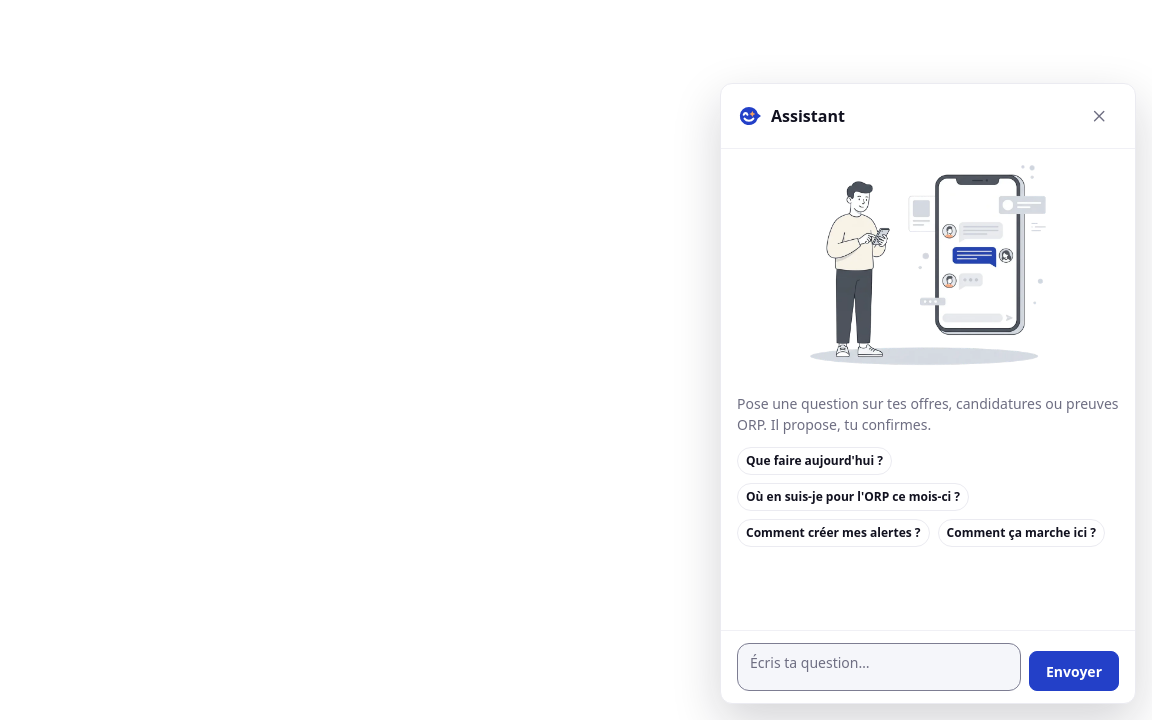
Scenario: AssistantPanel, propositions (docs/52) › affiche la proposition, la fait sur « Confirmer », puis propose « Annuler »
Type "Trie mes offres" into the text box with test id "assistant-input" at (879, 667), box [737, 643, 1021, 691]
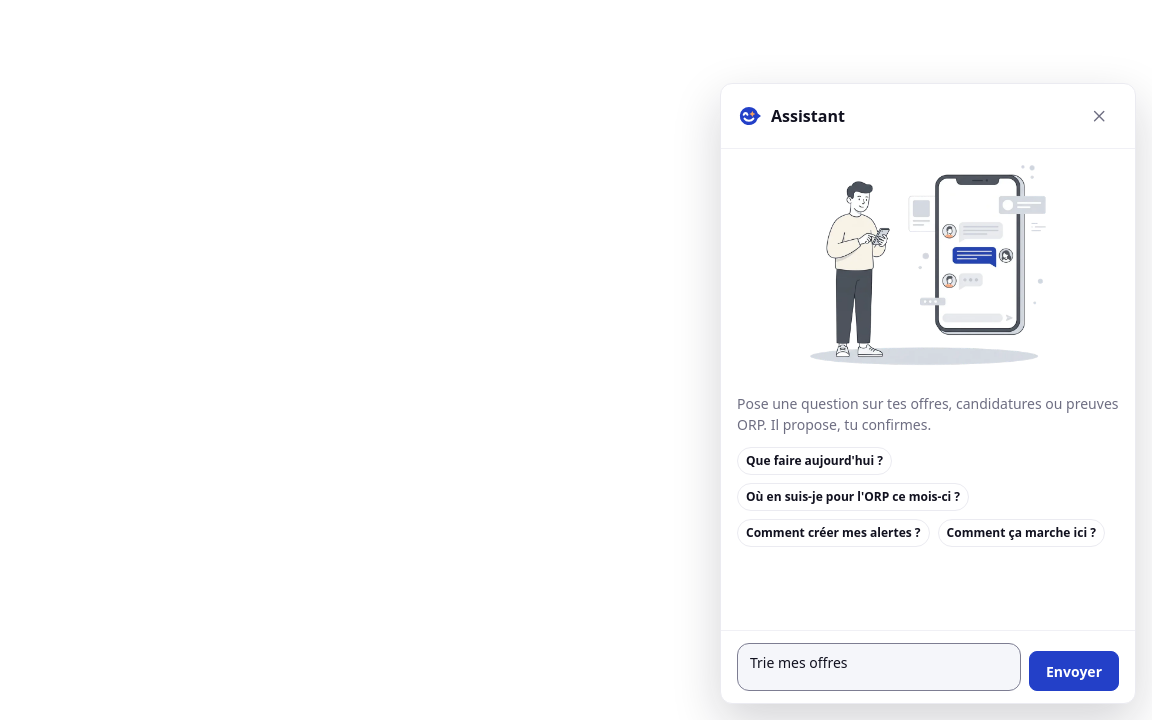
Submit the form with class "assistant-form", box [721, 630, 1135, 703]
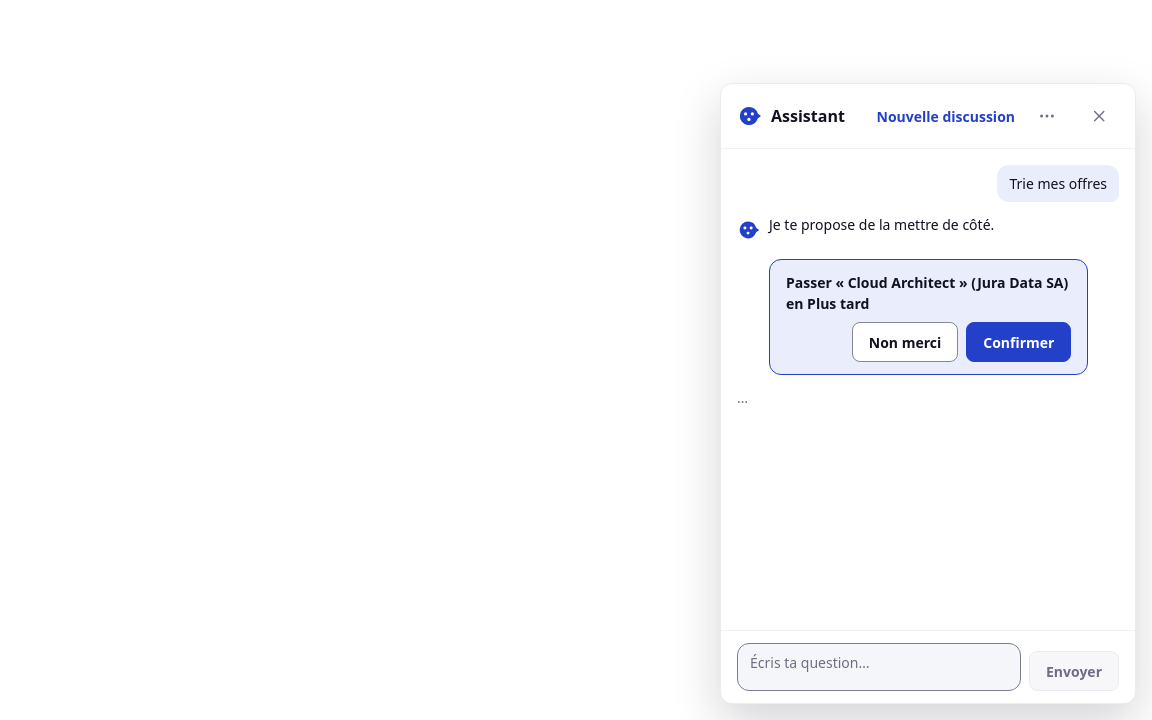
Expected: the icon with test id "assistant-mascot" next to "Assistant" is shown, [737, 103, 763, 129]
Now the icon with test id "assistant-mascot" next to "Je te propose de la mettre de côté." is shown, box [737, 218, 761, 242]
Now the element with test id "assistant-action" shows "Passer « Cloud Architect » (Jura Data SA) en Plus tard", box [786, 273, 1068, 313]
Click the button with test id "assistant-action-confirm" at (1019, 342), box [966, 322, 1071, 362]
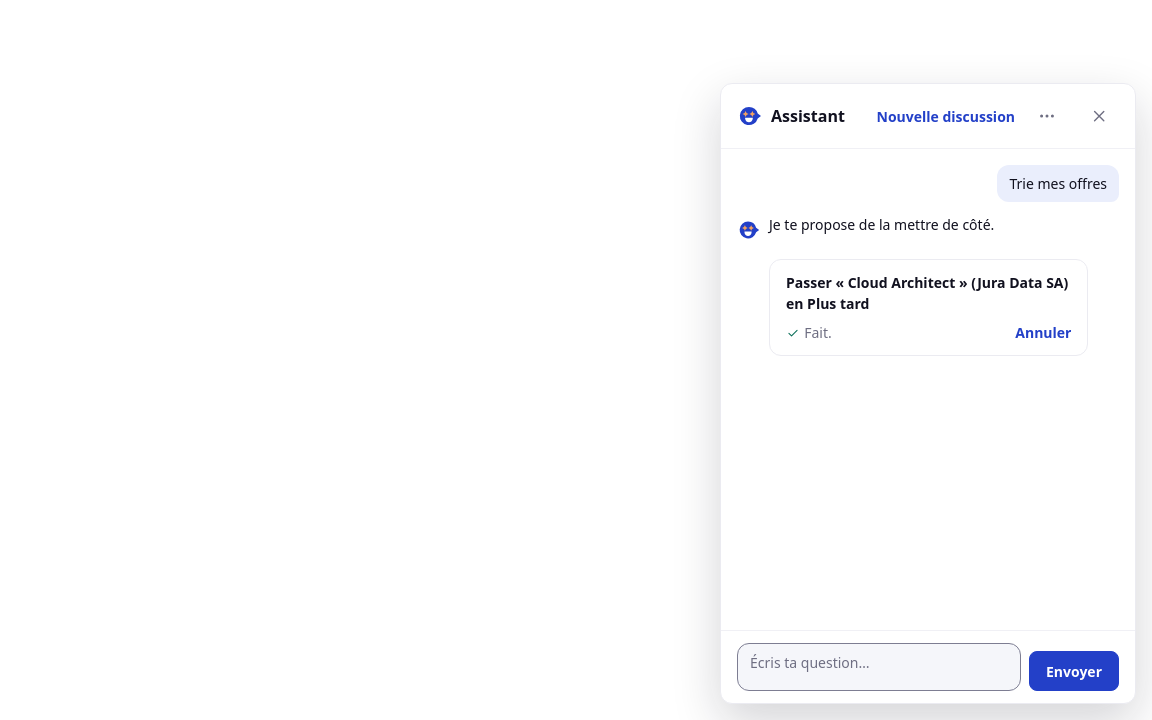
Now the element with test id "assistant-action" shows "Fait.", box [804, 323, 832, 342]
Now the button with test id "assistant-action-undo" is shown, box [1015, 322, 1072, 343]
